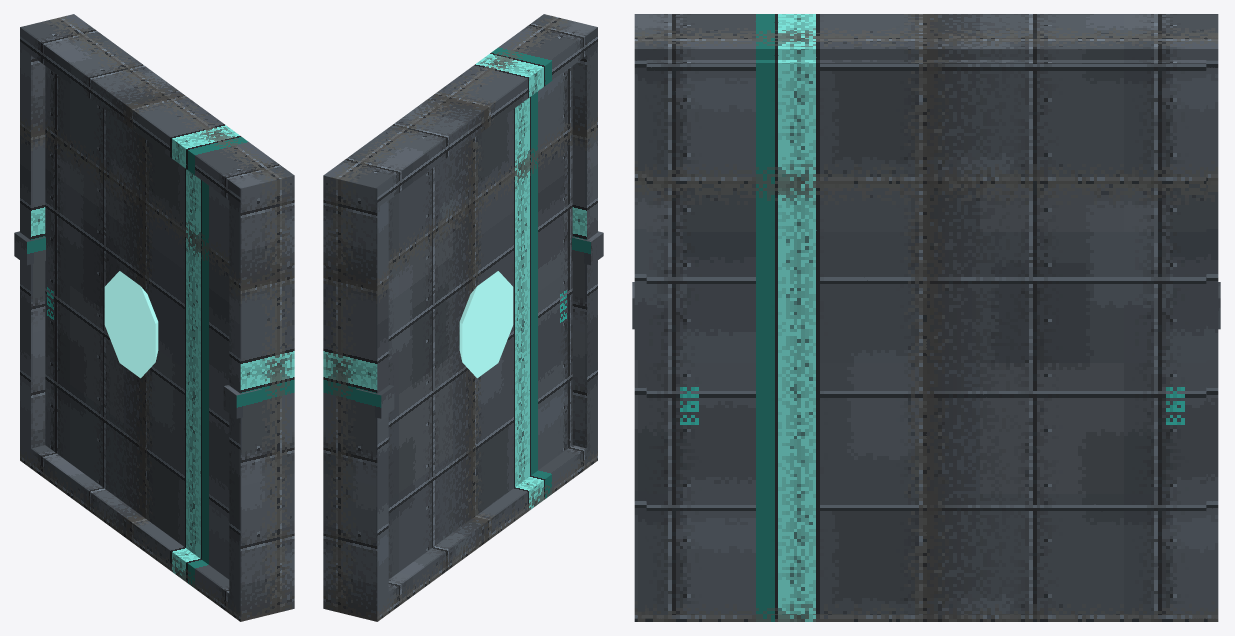
Rendered from breakwall_panel.glb.
The picture shows the model from 3 angles, left to right: view 1: azimuth 30°, elevation 25°; view 2: azimuth 150°, elevation 25°; view 3: azimuth 270°, elevation 25°; orthographic projection. The views are drawn at different scales.
Visible parts, largest first — view 1: breakwall_panel; view 2: breakwall_panel; view 3: breakwall_panel.
Boxes of the visible parts, x1,y1,x2,y2 form: breakwall_panel: (14,14,294,621); breakwall_panel: (323,14,603,621); breakwall_panel: (632,14,1220,621).
Size of the model in its own units: 0.4 by 2.6 by 2.42.
Materials: 2 (1 with a texture image).
